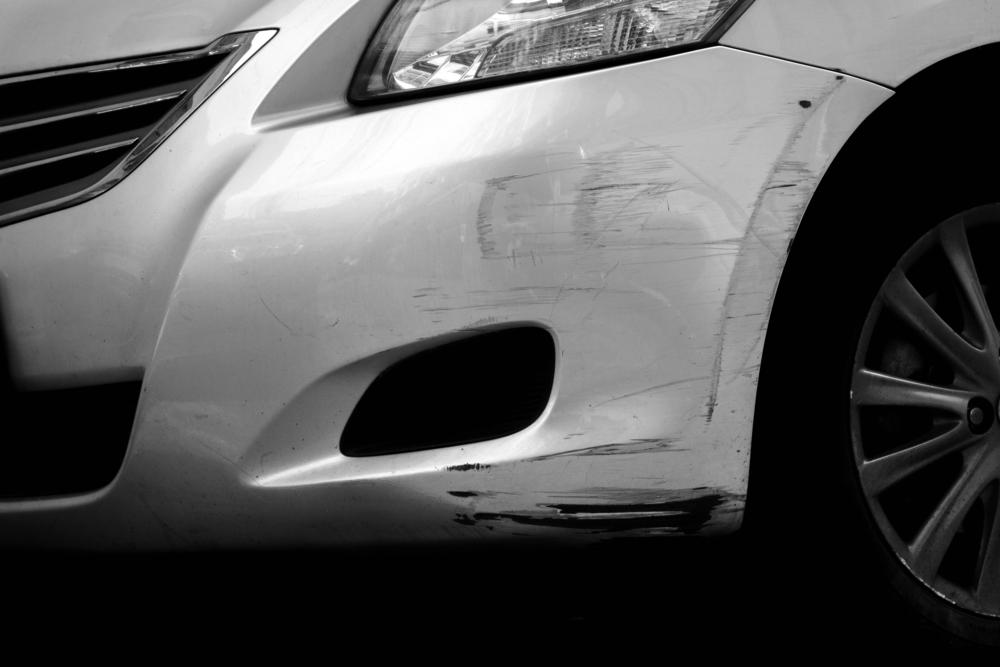scratch: (420, 132, 828, 534)
